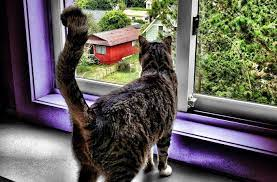cat: (54, 6, 191, 182)
